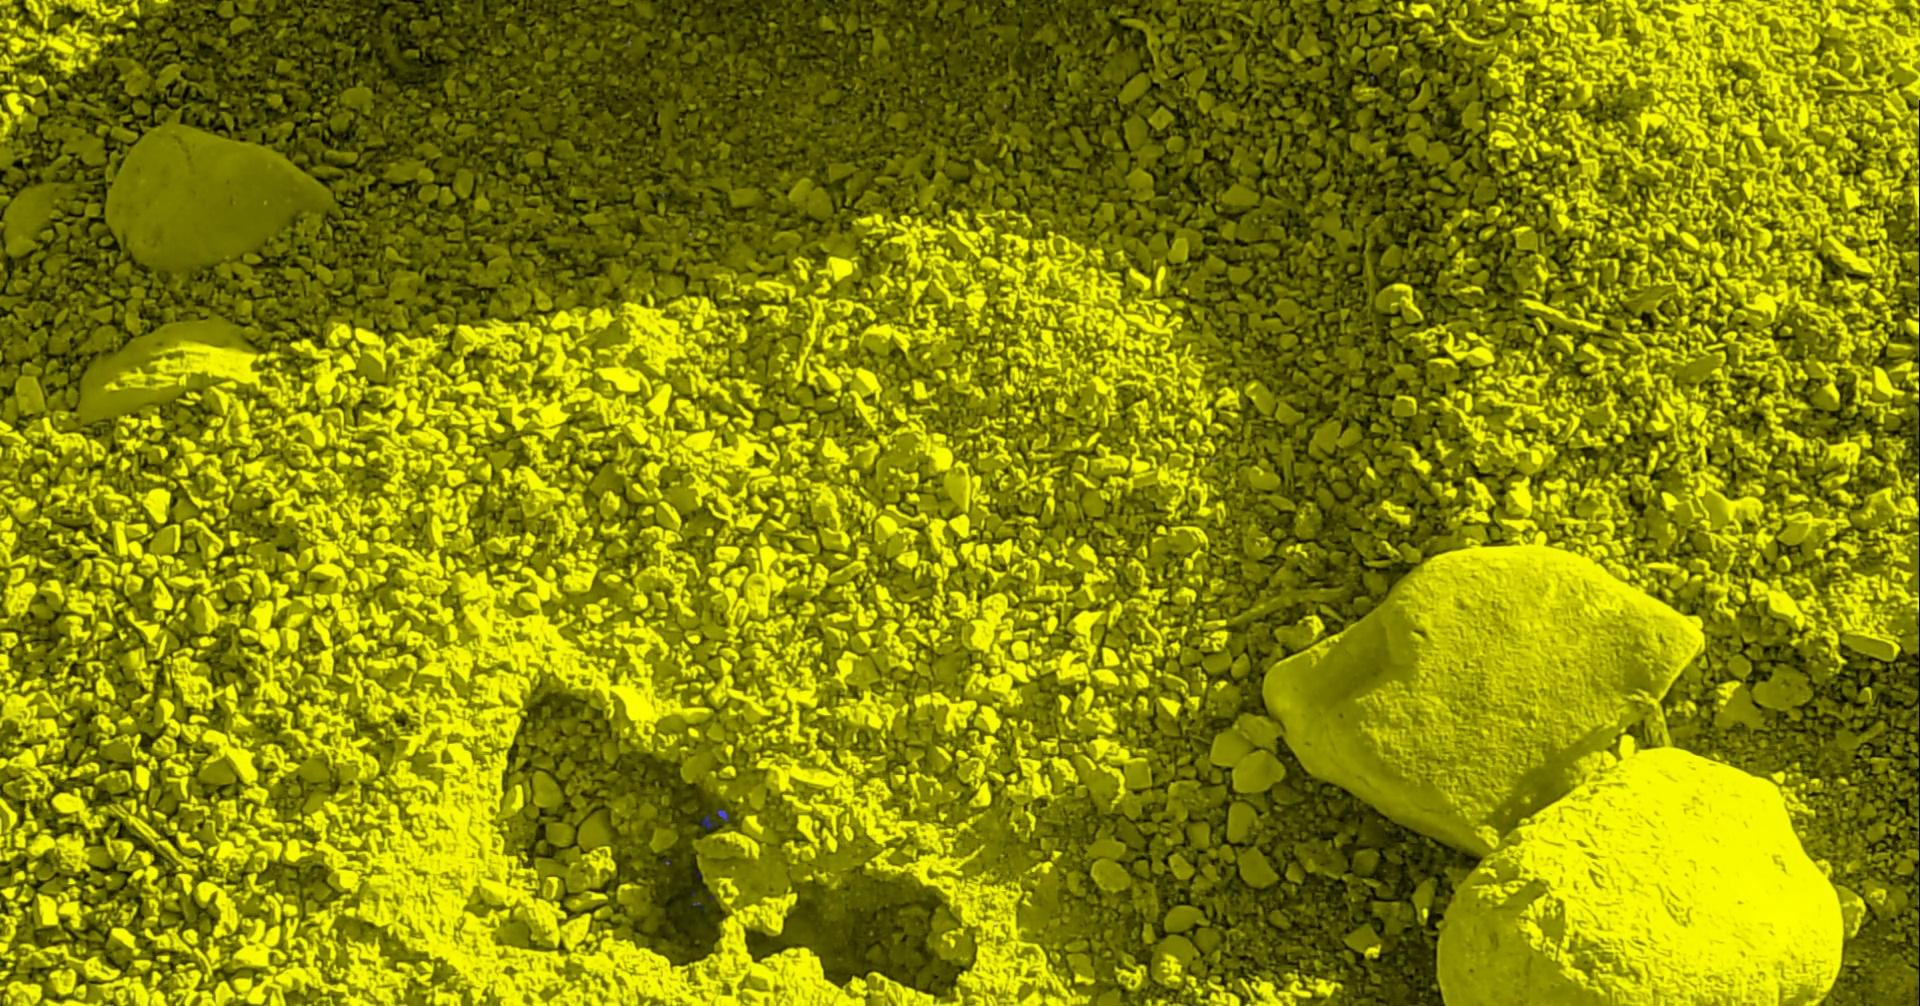ant: (703, 813, 717, 828)
